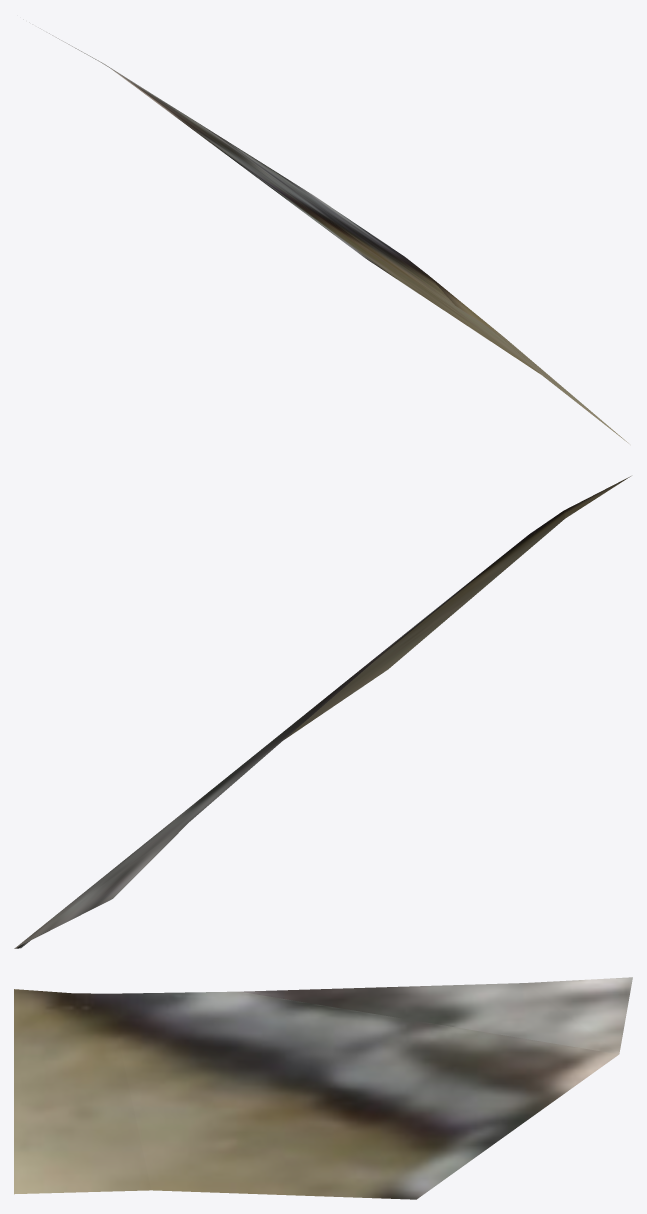
3 renders of one model, top to bottom at view 1: azimuth 30°, elevation 25°; view 2: azimuth 150°, elevation 25°; view 3: azimuth 270°, elevation 25°, orthographic. The views are drawn at different scales.
Size of the model in its own units: 0.3929 by 0.3433 by 1.33.
Materials: 1 (1 with a texture image).
